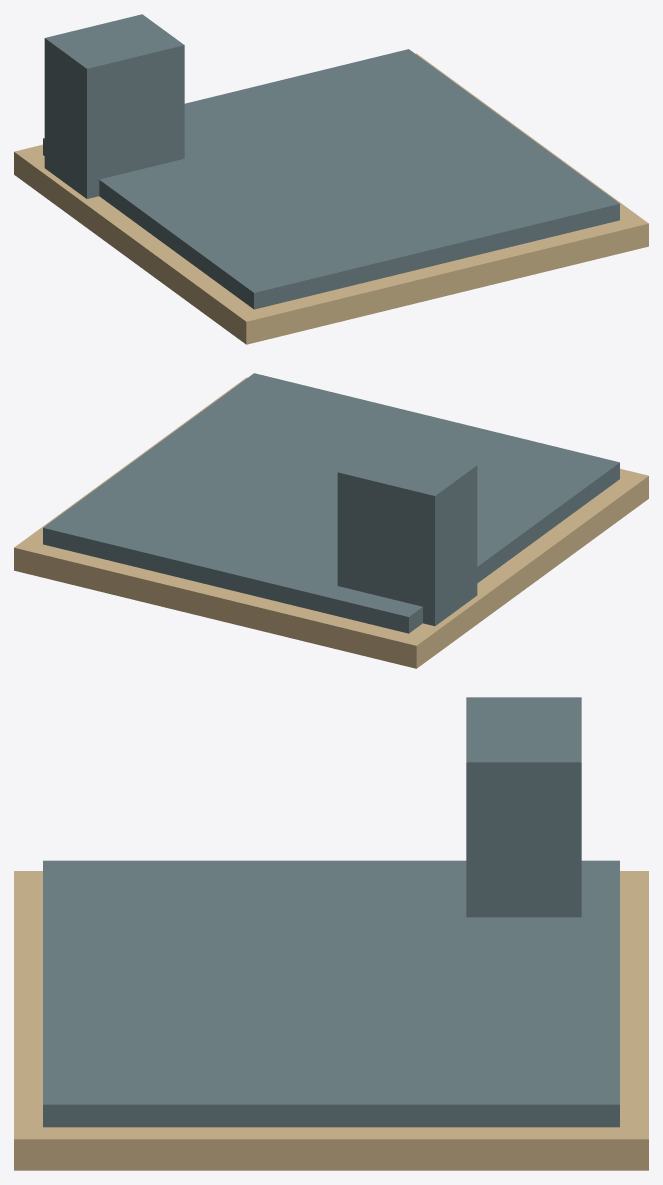
Rendered from drone-station.source.glb.
The picture shows the model from 3 angles, top to bottom: view 1: azimuth 30°, elevation 25°; view 2: azimuth 150°, elevation 25°; view 3: azimuth 270°, elevation 25°; orthographic projection. The views are drawn at different scales.
Parts seen in each view (by area): view 1: drone-station-pad-mesh, drone-station-base-mesh, drone-station-cabinet-mesh; view 2: drone-station-pad-mesh, drone-station-base-mesh, drone-station-cabinet-mesh; view 3: drone-station-pad-mesh, drone-station-base-mesh, drone-station-cabinet-mesh.
Part boxes in pixels (x1,y1,x2,y2): drone-station-pad-mesh: (43,49,619,309); drone-station-base-mesh: (14,53,648,344); drone-station-cabinet-mesh: (44,14,184,198); drone-station-pad-mesh: (43,373,619,633); drone-station-base-mesh: (14,377,648,668); drone-station-cabinet-mesh: (337,441,477,626); drone-station-pad-mesh: (43,860,619,1127); drone-station-base-mesh: (14,871,648,1170); drone-station-cabinet-mesh: (466,697,581,917).
Size of the model in its own units: 3.3 by 1.2 by 3.3.
